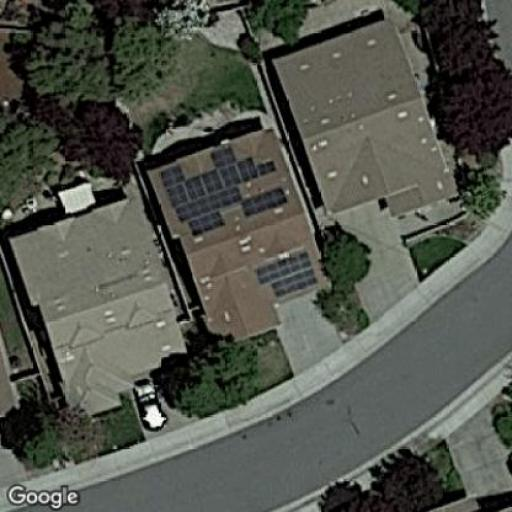solar-panel: (157, 144, 289, 236), (252, 248, 320, 302)
